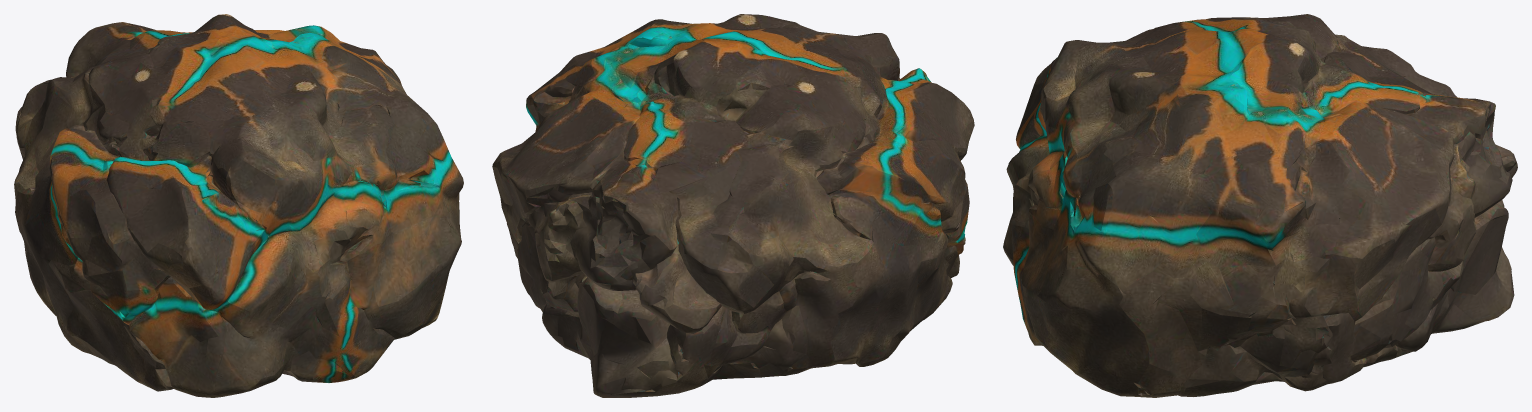
Rendered from min2-copper_ore-final.glb.
3 renders of one model, left to right at view 1: azimuth 30°, elevation 25°; view 2: azimuth 150°, elevation 25°; view 3: azimuth 270°, elevation 25°, orthographic. The views are drawn at different scales.
Visible parts, largest first — view 1: Mesh_0; view 2: Mesh_0; view 3: Mesh_0.
Boxes of the visible parts, <box> form: Mesh_0: <box>14,14,463,397</box>; Mesh_0: <box>492,14,974,397</box>; Mesh_0: <box>1003,14,1517,397</box>.
Bounding box in the file's own units: 0.0961 × 0.07 × 0.109.
1 material, 1 textured.
